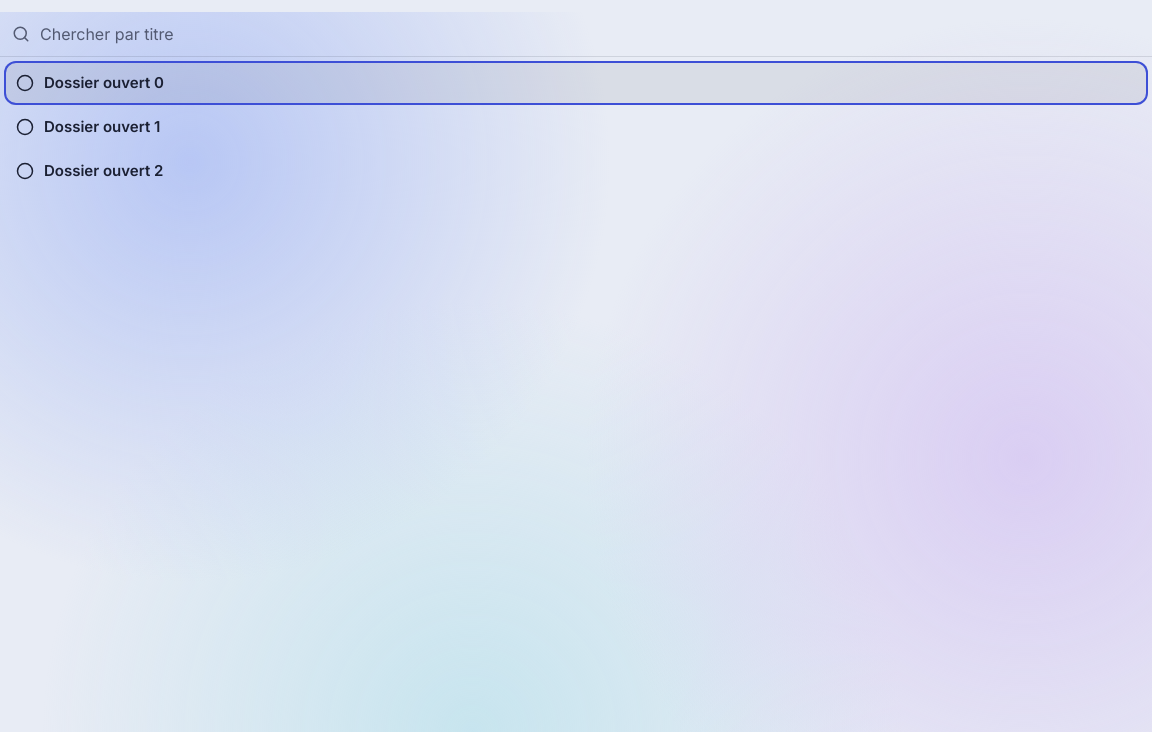
Test: liste de sélection de tâche › filtre par titre avec délai, ouvertes d'abord puis closes, 20 au plus
Expected: the text "Dossier ouvert 0" is shown, [44,72,164,94]
In the dropdown named "Chercher une tâche": (590, 34) [40,12,1140,56], type "dossier"
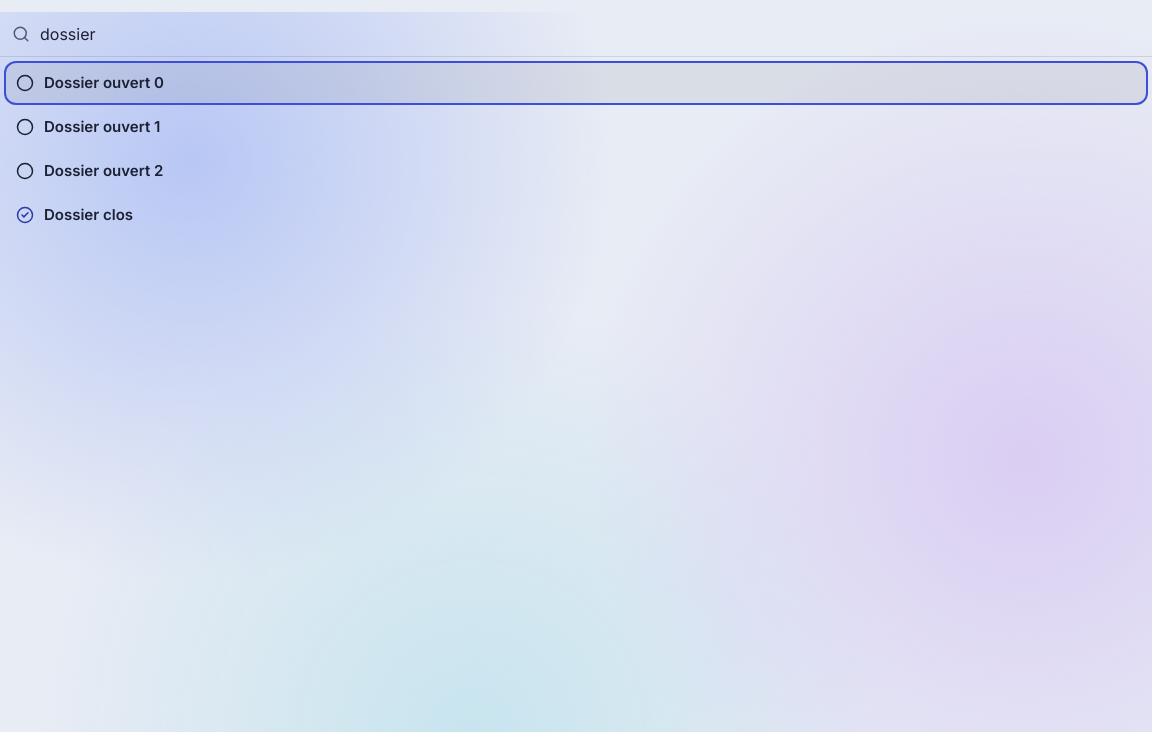
Expected: the text "Dossier ouvert 0" is shown, [44,72,164,94]
Expected: the text "Dossier clos" is shown, [44,204,133,226]
